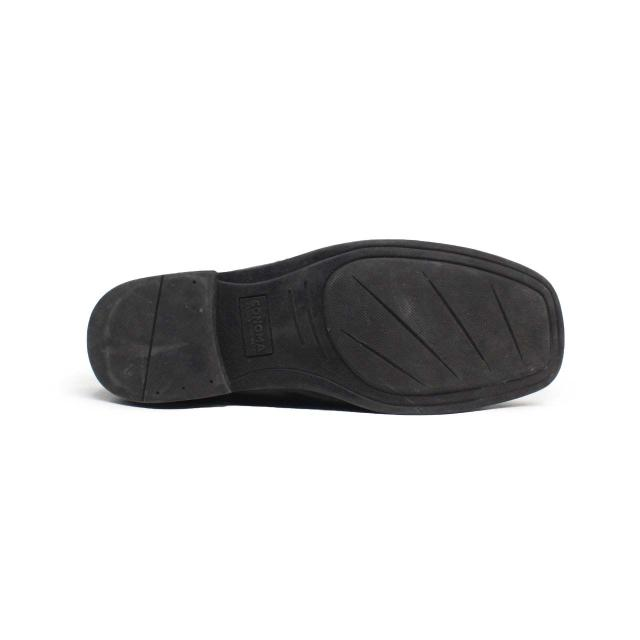outersole: (86, 243, 564, 416)
